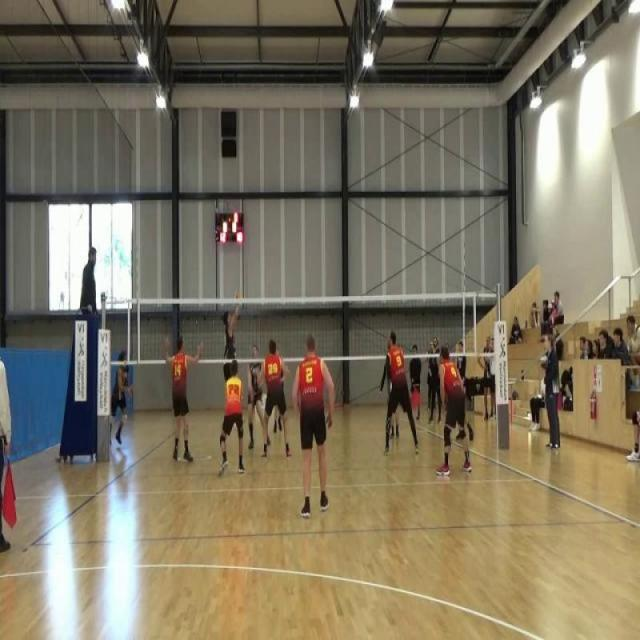volleyball: (235, 290, 242, 299)
